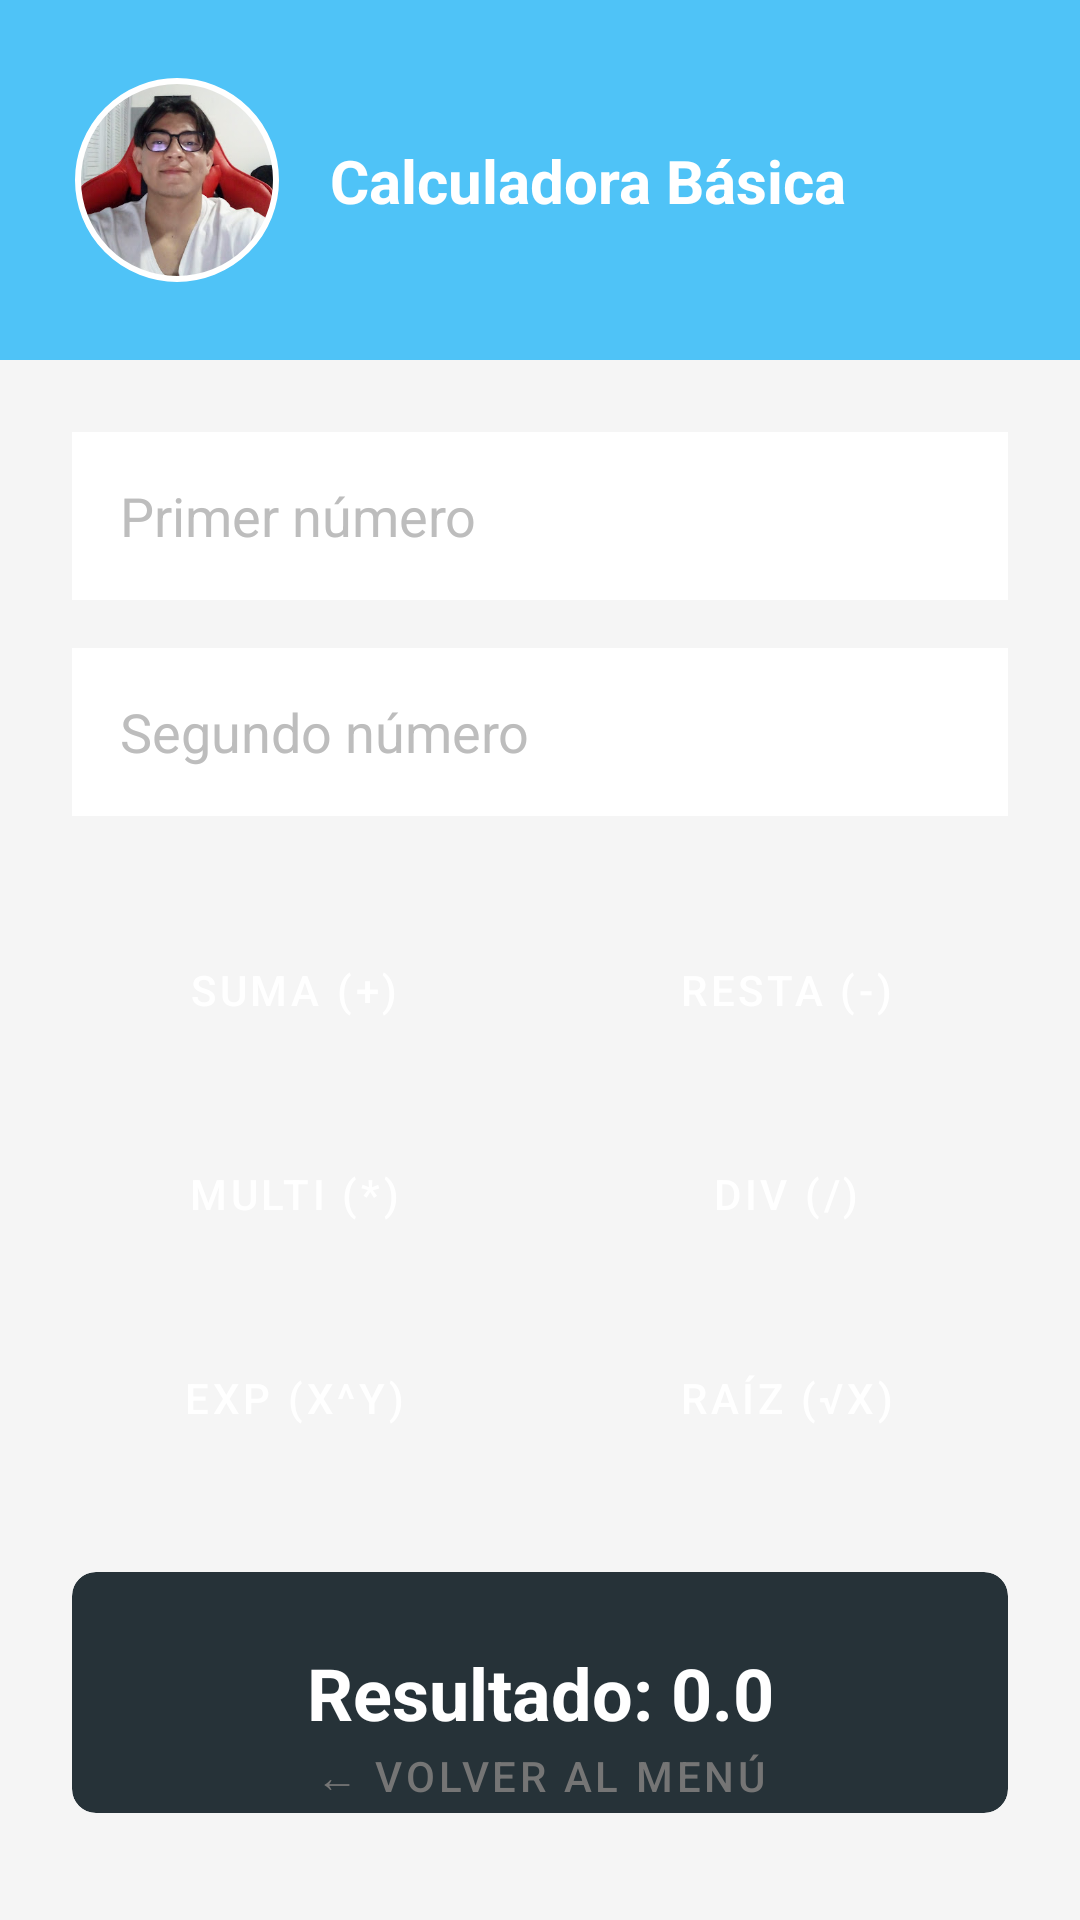

Locate icon controls on the screen. Image size 1080px x 1920px, boxes as Rect(x1, y1, x2, y2).
mi foto: Rect(75, 78, 279, 282)
